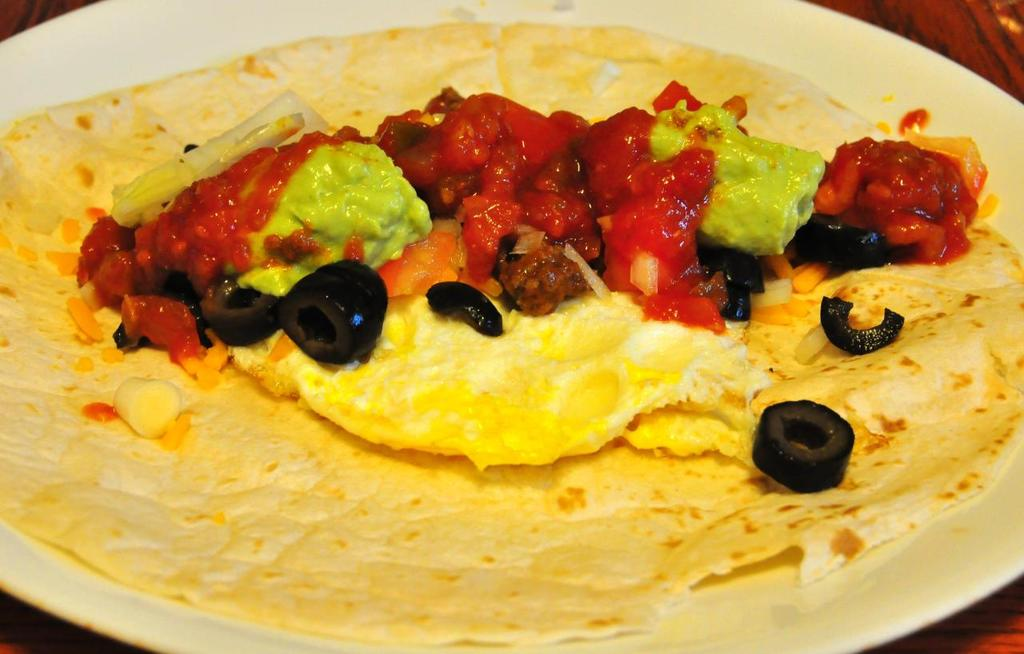taco: (0, 18, 1023, 644)
